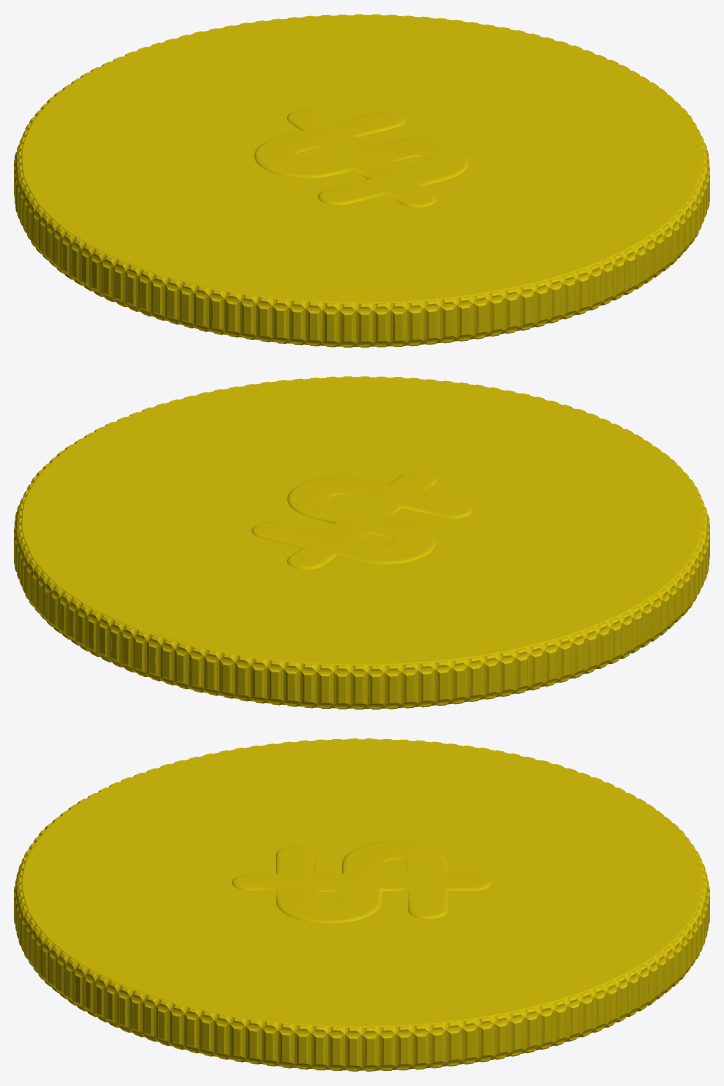
File: coin.glb
3 views of the same model, one above another, from view 1: azimuth 30°, elevation 25°; view 2: azimuth 150°, elevation 25°; view 3: azimuth 270°, elevation 25° (orthographic).
Visible parts, largest first — view 1: coin; view 2: coin; view 3: coin.
Boxes of the visible parts, box(x1,y1,x2,y2) form: coin: box(14, 14, 709, 347); coin: box(14, 376, 709, 709); coin: box(14, 738, 709, 1071).
Bounding box in the file's own units: 2 × 0.1508 × 2.
